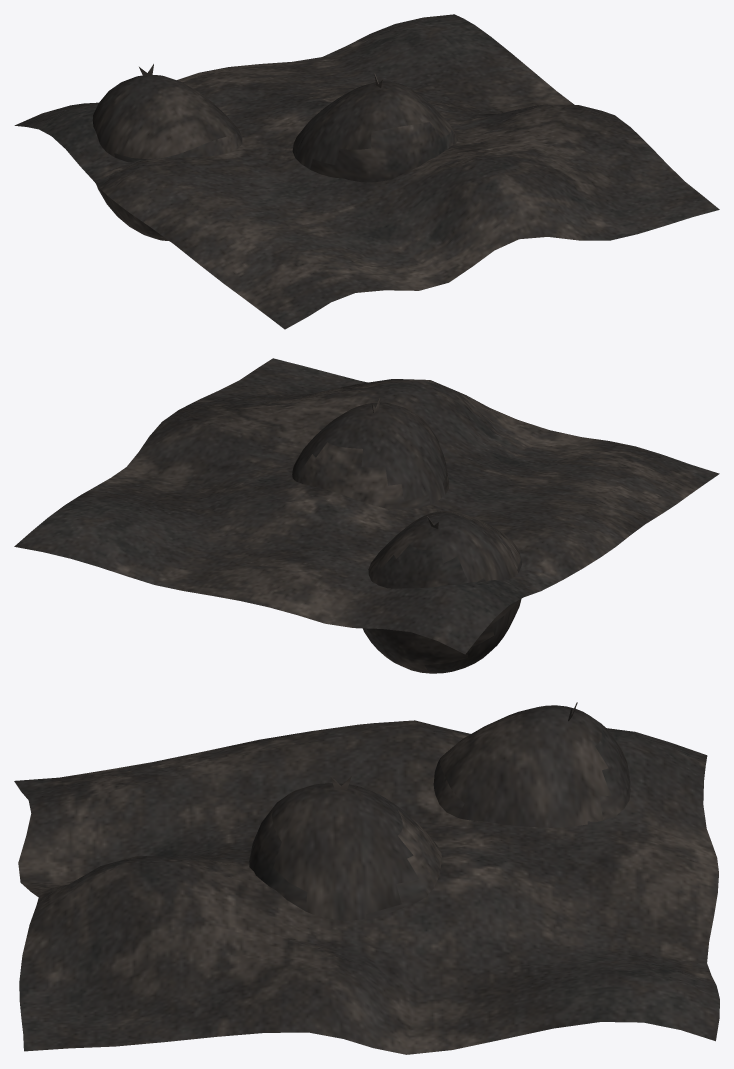
File: trashPile.fbx
3 views of the same model, one above another, from view 1: azimuth 30°, elevation 25°; view 2: azimuth 150°, elevation 25°; view 3: azimuth 270°, elevation 25° (orthographic). The views are drawn at different scales.
Parts seen in each view (by area): view 1: Cube; view 2: Cube; view 3: Cube.
Boxes of the visible parts, x1=… form: Cube: x1=14, y1=14, x2=719, y2=329; Cube: x1=14, y1=358, x2=719, y2=673; Cube: x1=14, y1=702, x2=719, y2=1054.
Size of the model in its own units: 209 by 76.01 by 206.
